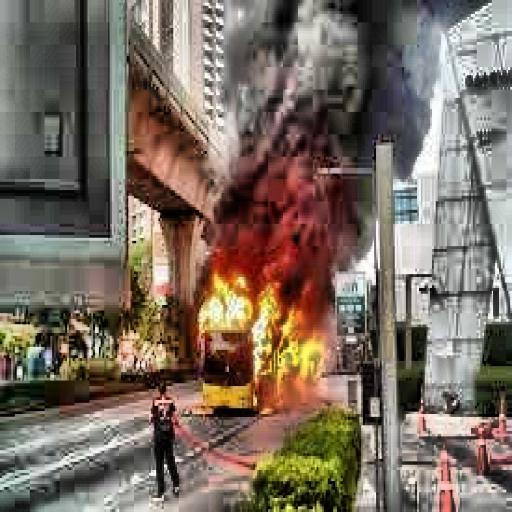fire: (188, 244, 328, 408)
